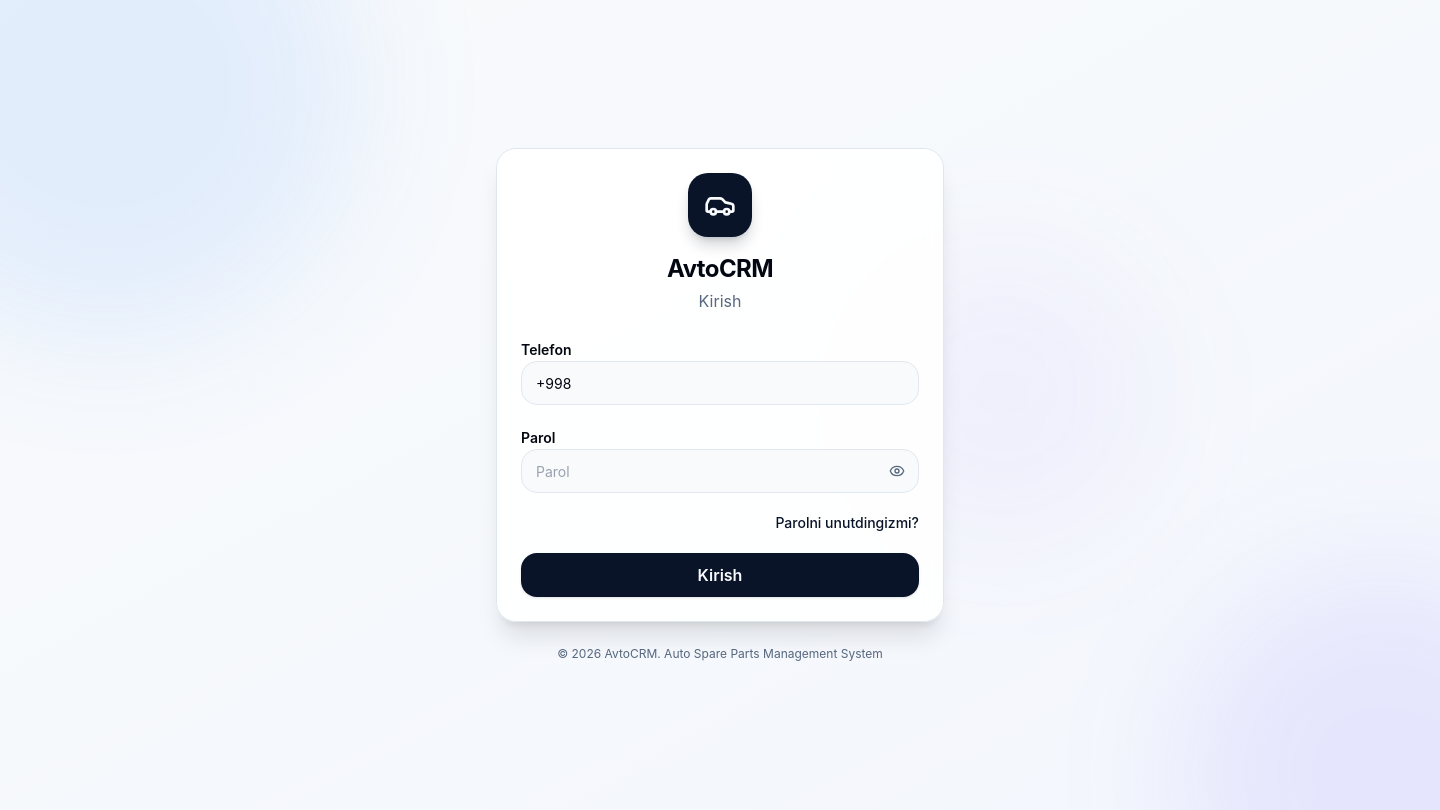
LoginPage › shows an error immediately when 998 is typed again after +998
Type "998" into the field labelled "Telefon".
click(720, 383); type("998")  # box [521, 361, 919, 405]
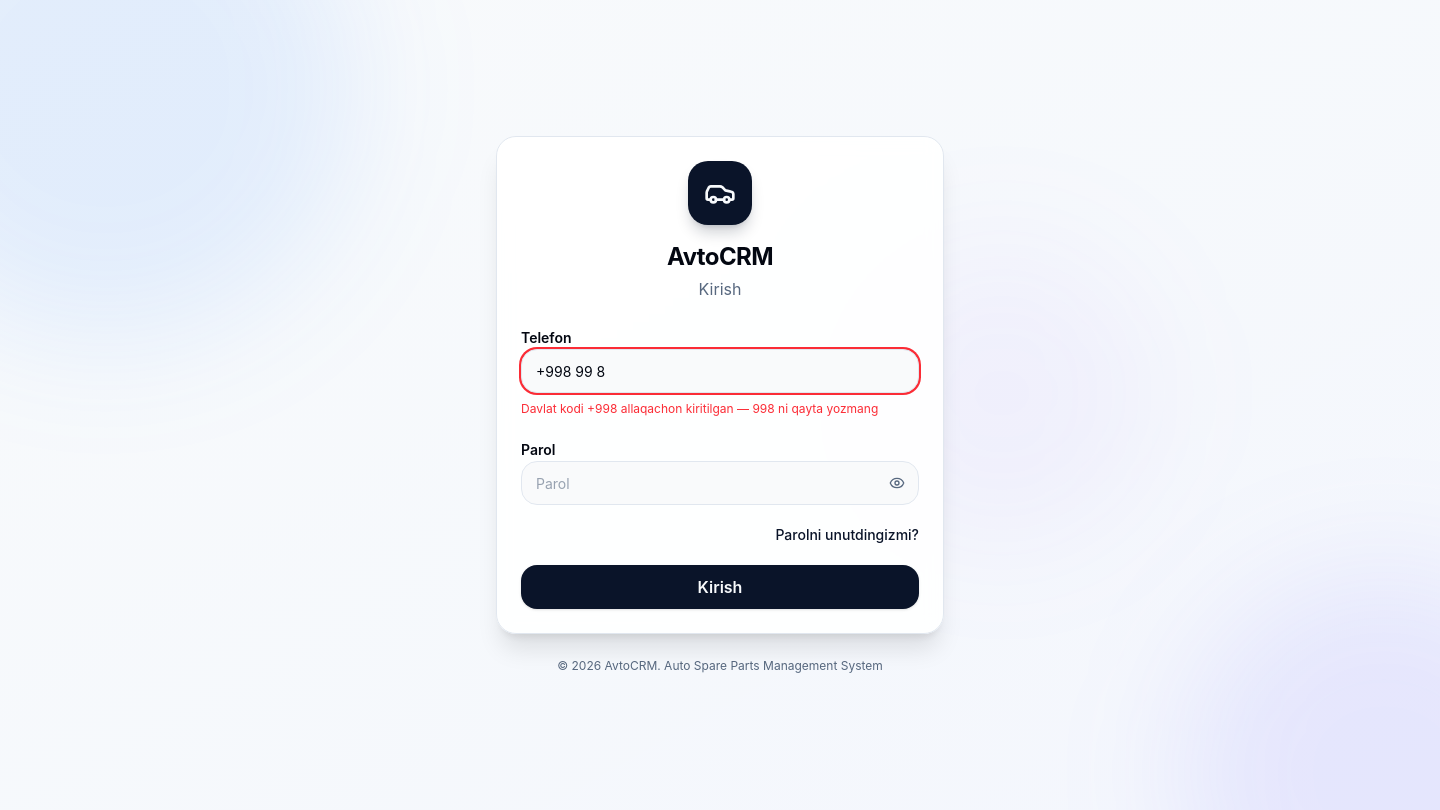
Now the text "998 ni qayta yozmang" is shown, box [521, 401, 878, 416]
